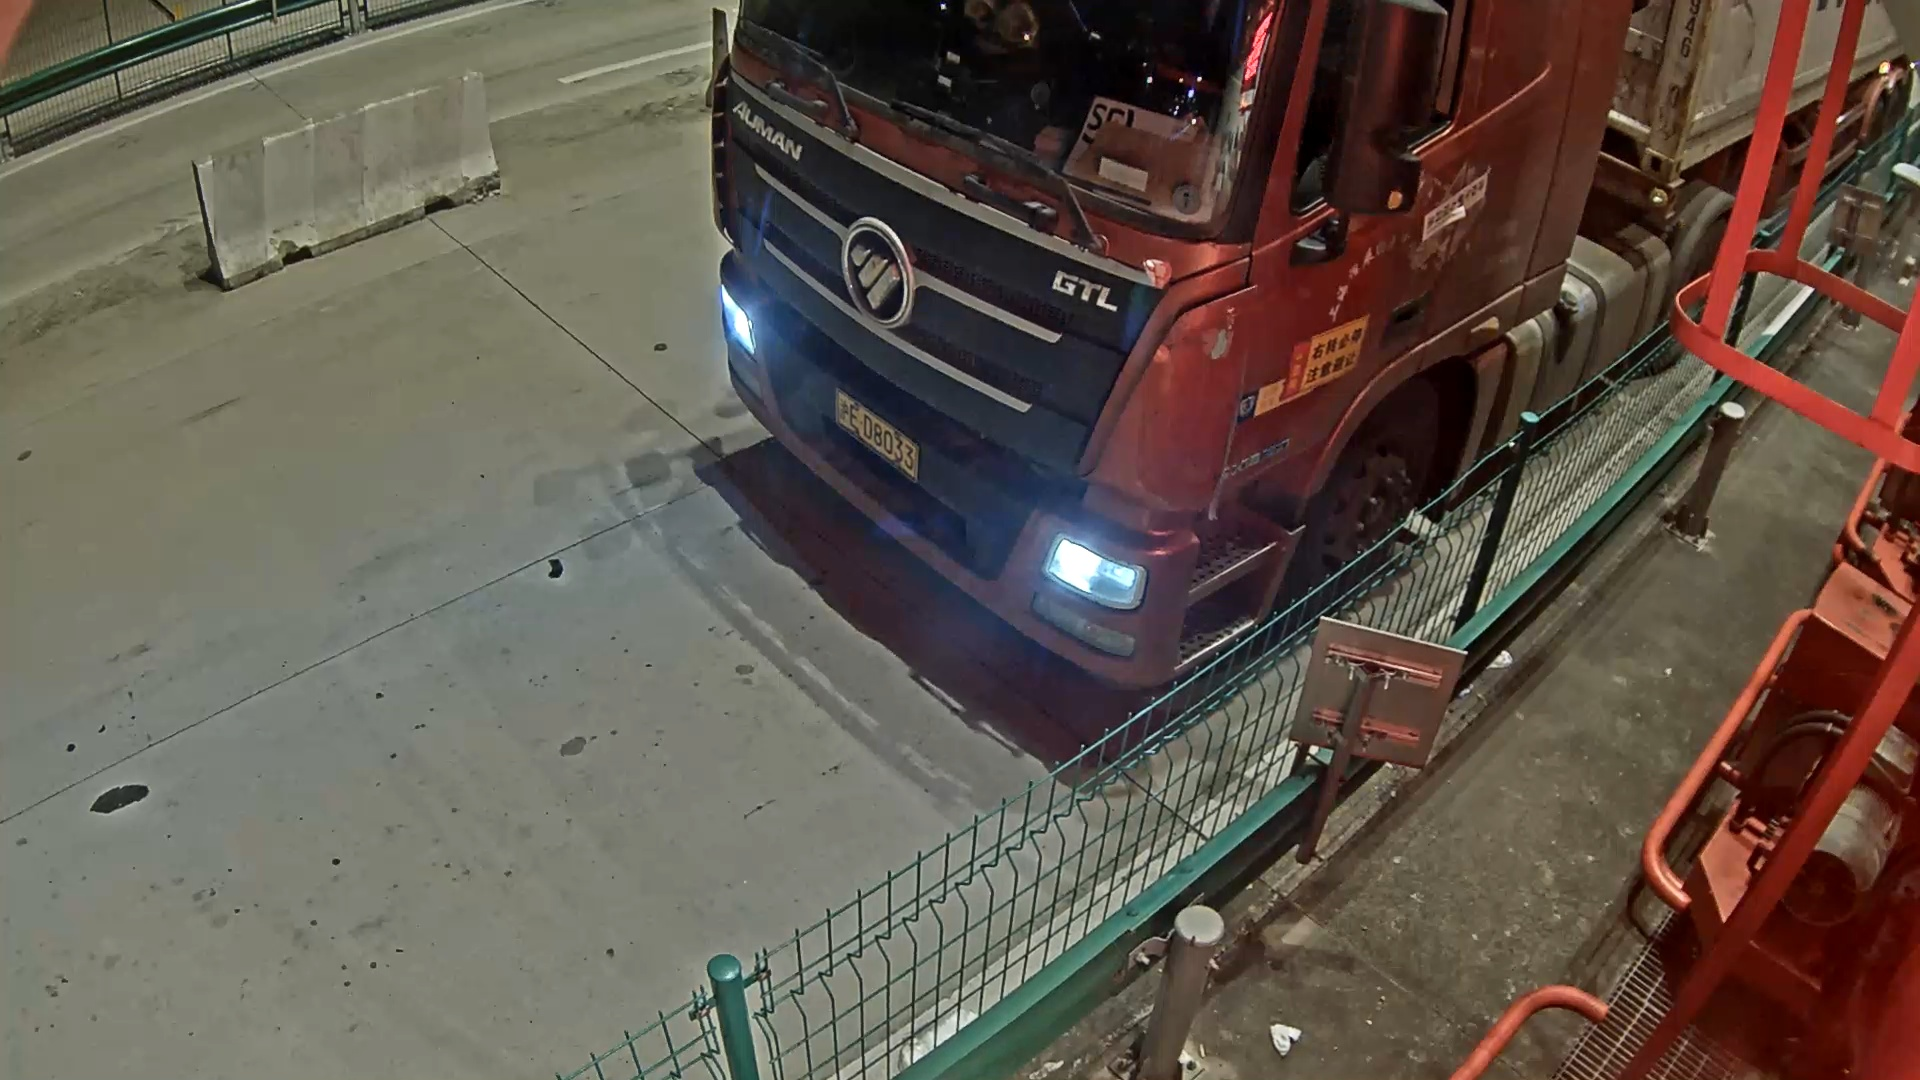head: (705, 9, 1474, 685)
plate: (839, 397, 945, 489)
